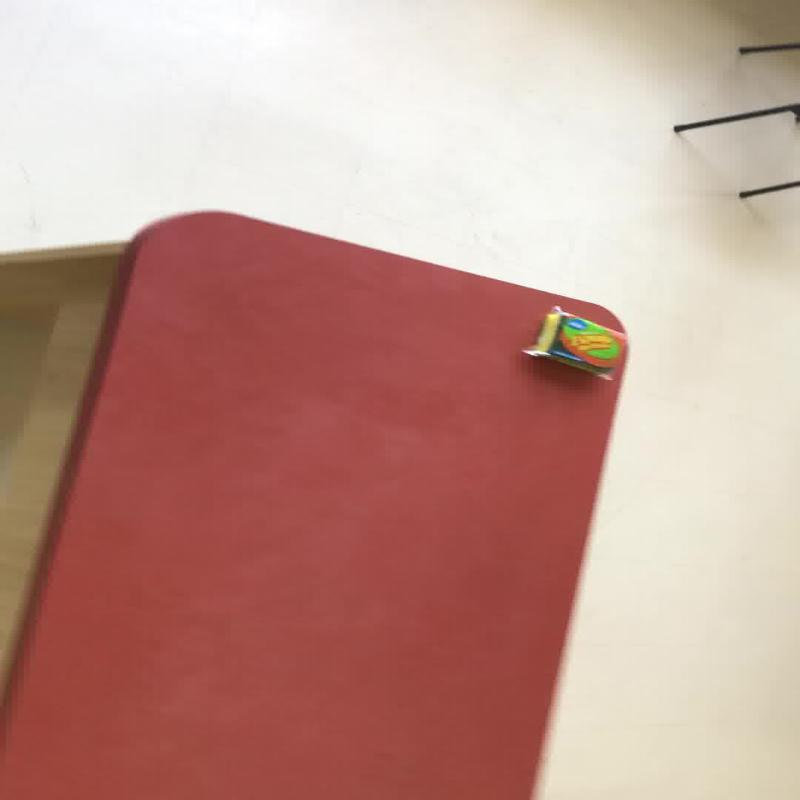sponge: (519, 304, 626, 380)
